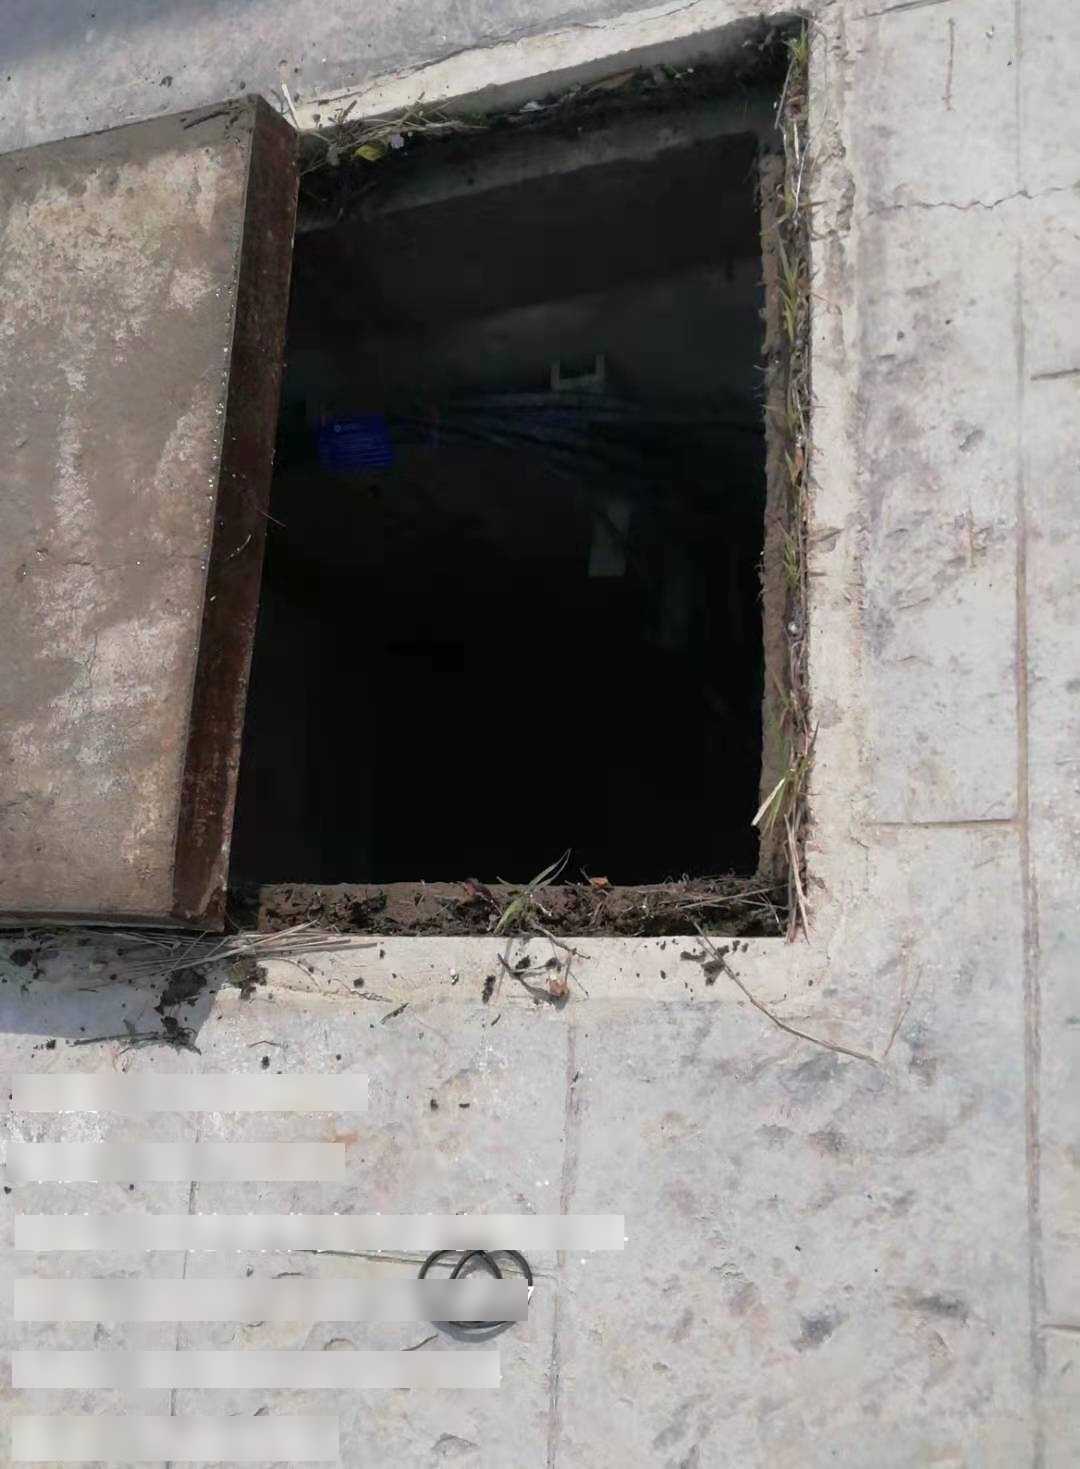uncovered: (11, 1, 802, 943)
